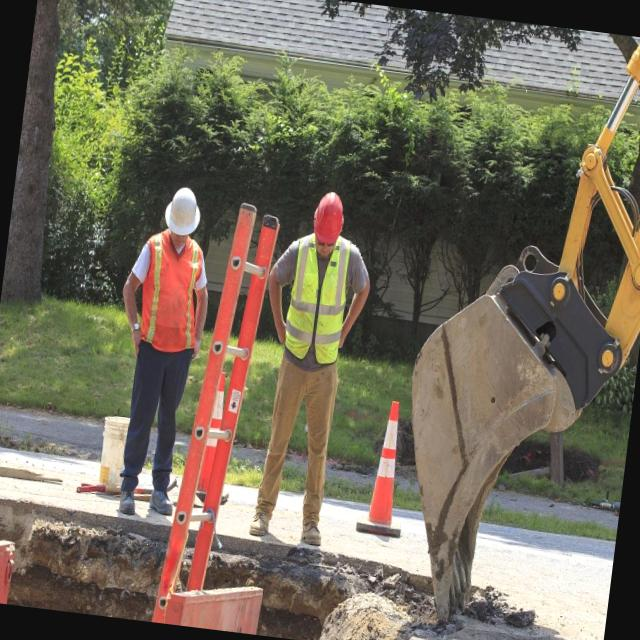helmet: (307, 184, 349, 253), (159, 183, 205, 240)
vest: (280, 232, 361, 376), (138, 237, 202, 361)
